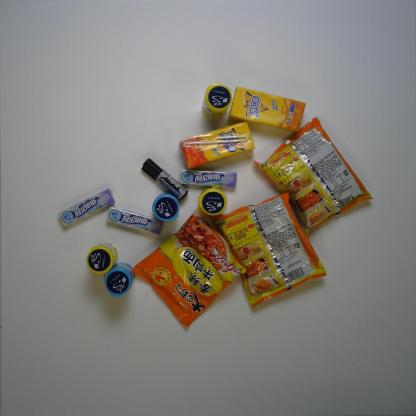Candy: (54, 190, 120, 228), (103, 205, 160, 238), (174, 167, 237, 189)
Drink: (179, 117, 256, 166), (228, 86, 305, 132)
Gum: (198, 76, 234, 116), (83, 241, 116, 276), (194, 186, 226, 216), (103, 266, 133, 296), (151, 194, 181, 223)
Instant Noodles: (134, 210, 252, 329), (256, 118, 373, 233), (219, 193, 327, 308)
Stationery: (141, 153, 188, 200)
